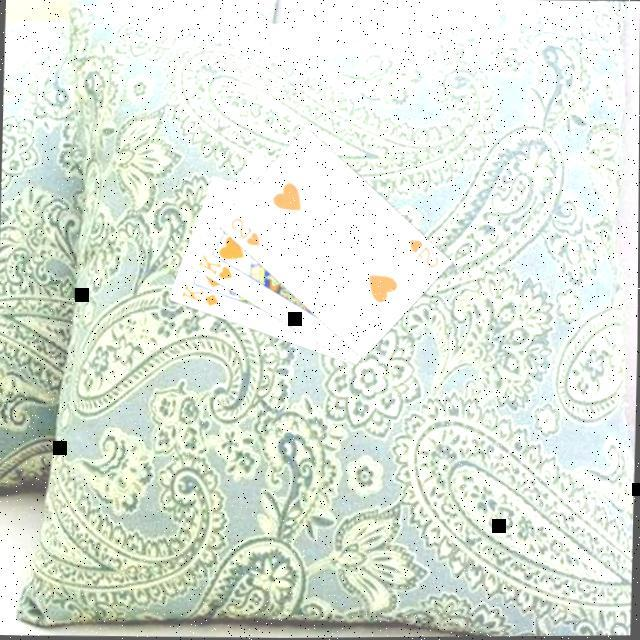2H: (225, 213, 262, 248), (403, 235, 440, 270)
KD: (177, 280, 221, 309)
KH: (192, 250, 235, 282)
